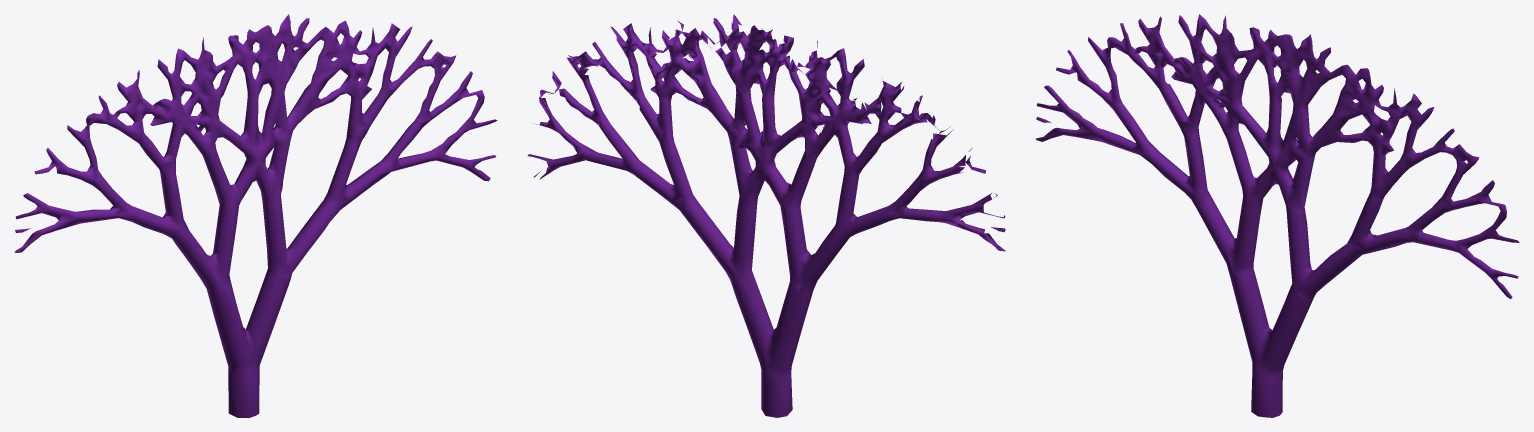
File: kt_coral_fan_a.glb
3 renders of one model, left to right at view 1: azimuth 30°, elevation 25°; view 2: azimuth 150°, elevation 25°; view 3: azimuth 330°, elevation 25°, orthographic.
Visible parts, largest first — view 1: kt_coral_fan_a; view 2: kt_coral_fan_a; view 3: kt_coral_fan_a.
Part boxes in pixels (x1=…): kt_coral_fan_a: x1=14, y1=14, x2=497, y2=417; kt_coral_fan_a: x1=527, y1=14, x2=1005, y2=417; kt_coral_fan_a: x1=1035, y1=14, x2=1519, y2=417.
Size of the model in its own units: 1.04 by 0.806 by 0.057.
